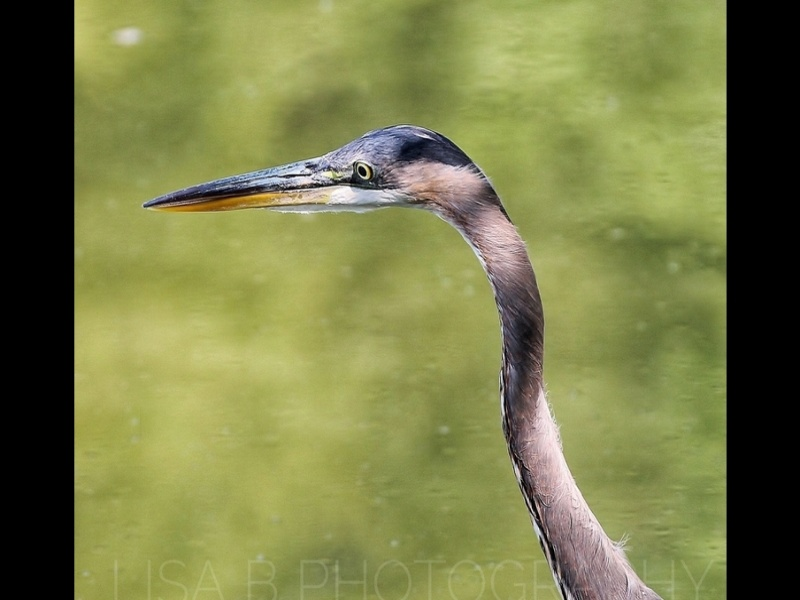heron: (140, 121, 660, 600)
